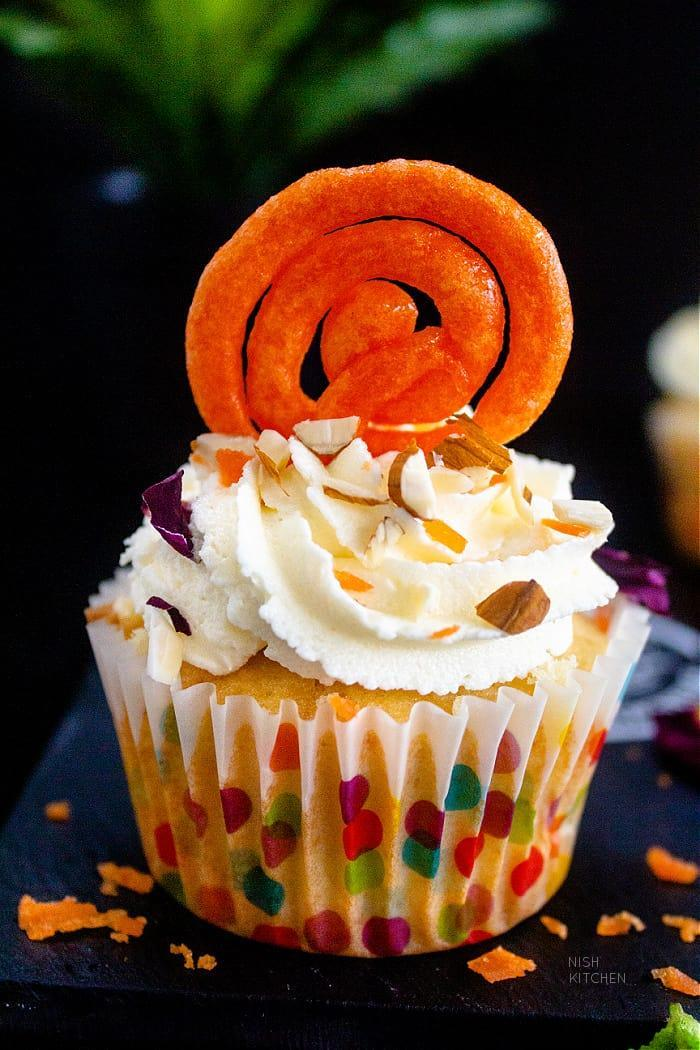jalebi: (180, 162, 597, 472)
